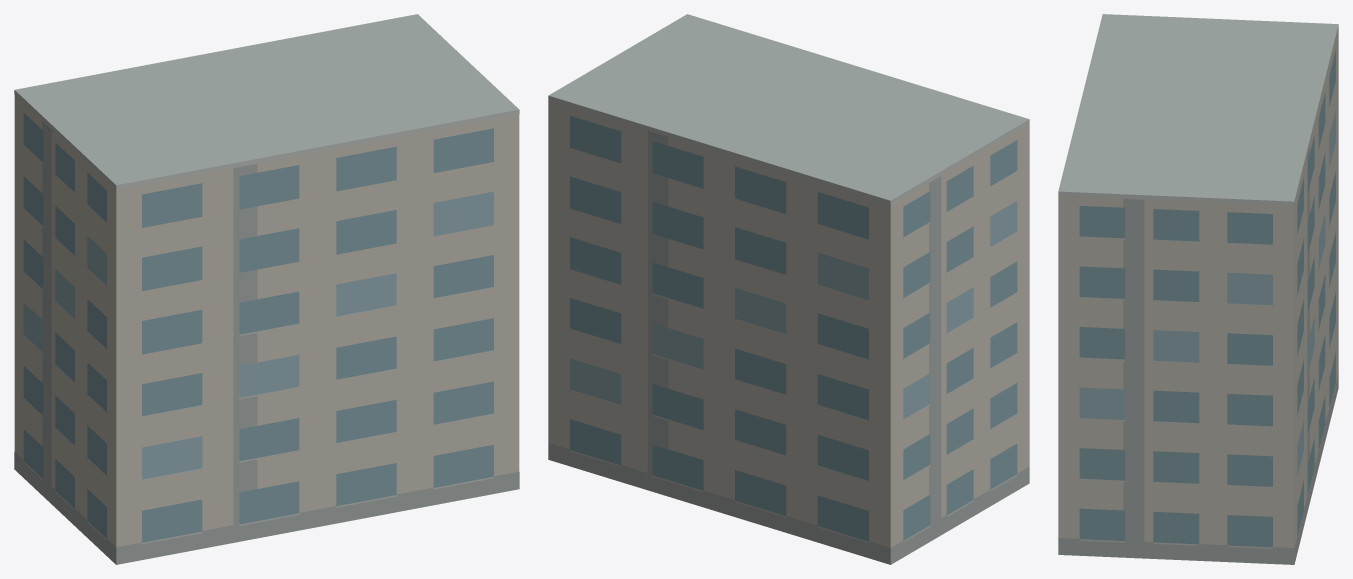
File: survey-upis-32567195.glb
The picture shows the model from 3 angles, left to right: view 1: azimuth 30°, elevation 25°; view 2: azimuth 150°, elevation 25°; view 3: azimuth 270°, elevation 25°; orthographic projection. The views are drawn at different scales.
Visible parts, largest first — view 1: survey-upis-32567195.tmp; view 2: survey-upis-32567195.tmp; view 3: survey-upis-32567195.tmp.
Boxes of the visible parts, box(x1,y1,x2,y2) form: survey-upis-32567195.tmp: box(14, 14, 519, 564); survey-upis-32567195.tmp: box(548, 14, 1029, 564); survey-upis-32567195.tmp: box(1058, 14, 1338, 564).
Size of the model in its own units: 20.93 by 18.9 by 13.23.
